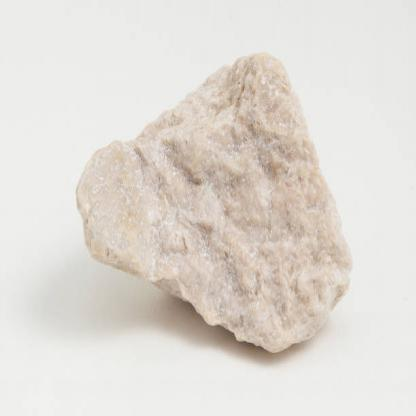Metamorphic_Marble: (62, 49, 375, 385)
